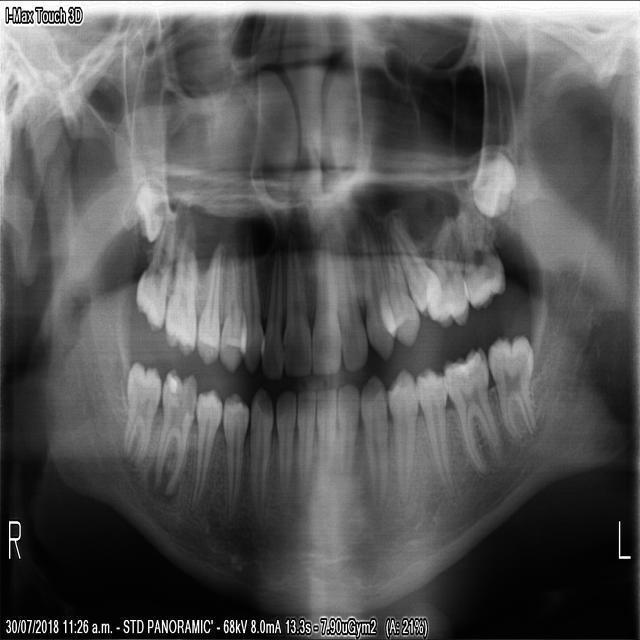LCD: (357, 368, 388, 521)
LCU: (356, 212, 399, 367)
LID: (333, 376, 361, 513), (314, 384, 336, 517)
LIU: (331, 208, 369, 375), (309, 218, 340, 375)
LMD: (441, 339, 503, 475), (485, 327, 536, 443)
LMU: (422, 203, 470, 332), (460, 198, 506, 312), (464, 144, 519, 221)
LPMD: (411, 360, 458, 506), (384, 363, 420, 512)
LPMU: (375, 218, 421, 350)
RCD: (245, 383, 273, 537)
RCU: (236, 221, 265, 379)
RID: (273, 384, 296, 507), (295, 383, 316, 506)
RIU: (279, 222, 310, 381), (257, 236, 285, 384)
RMD: (151, 360, 196, 497), (117, 356, 162, 470)
RMU: (132, 203, 182, 333), (161, 219, 196, 361), (132, 168, 171, 245)
RPMU: (216, 228, 248, 376), (193, 235, 223, 371)
